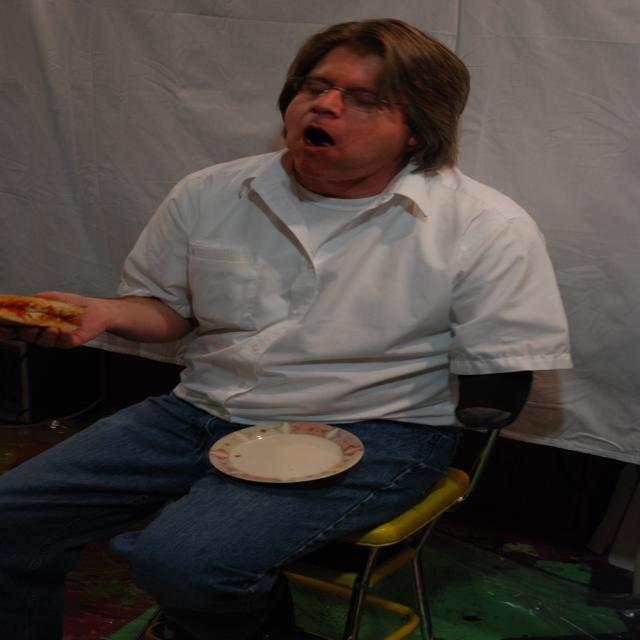ceramic plate: (200, 418, 364, 488)
